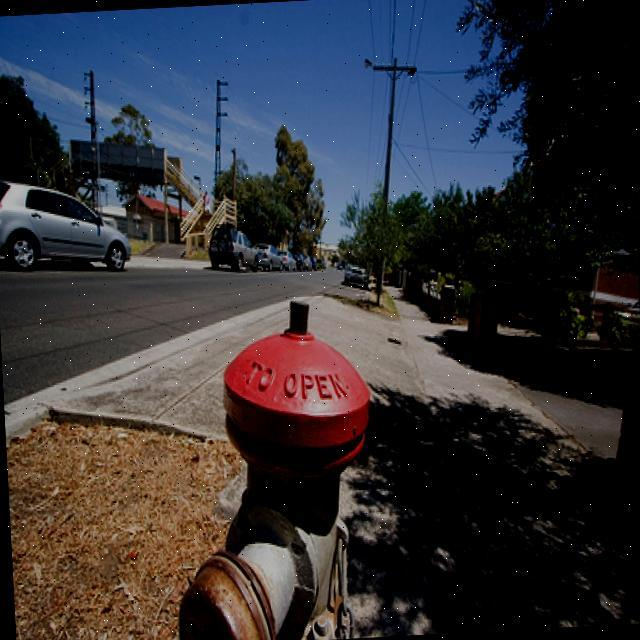fire_hydrant: (159, 296, 384, 640)
